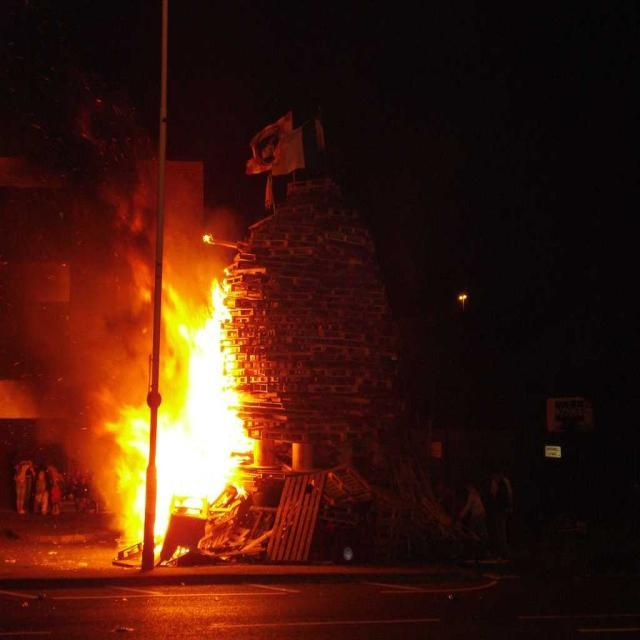Fire: (160, 418, 224, 494), (188, 332, 226, 412)
Smoke: (40, 240, 121, 392)
